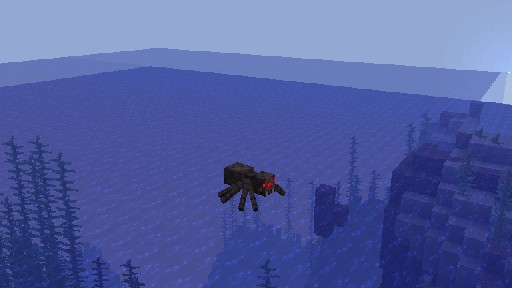spider: (217, 161, 285, 212)
